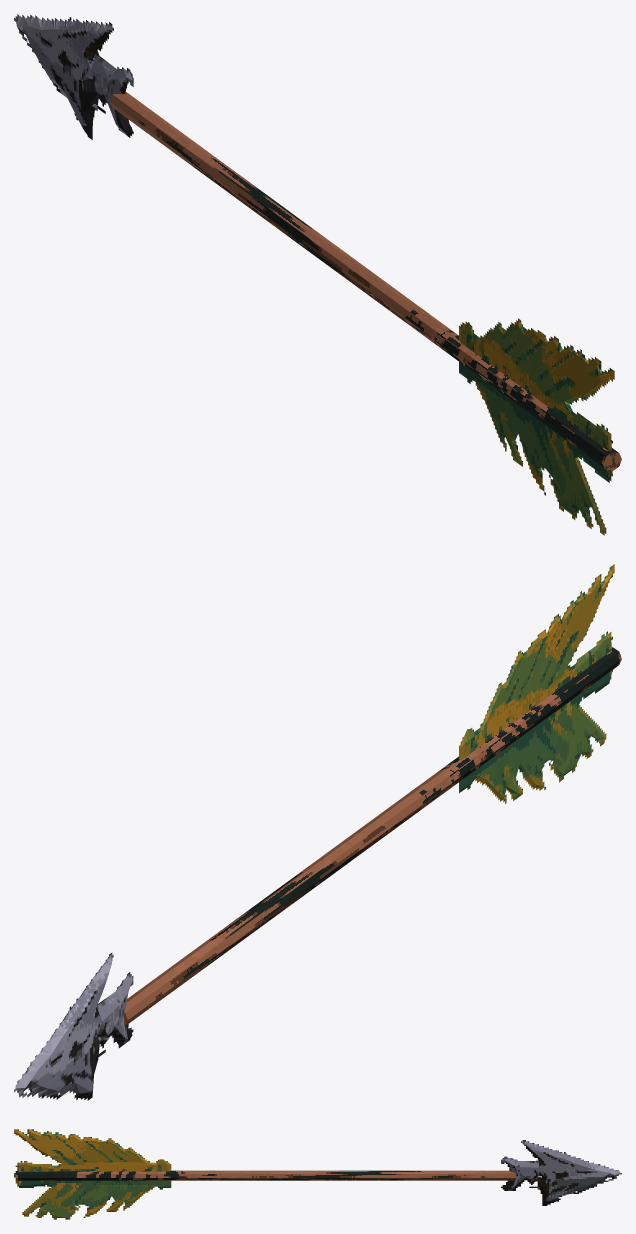
File: arrow.glb
3 renders of one model, top to bottom at view 1: azimuth 30°, elevation 25°; view 2: azimuth 150°, elevation 25°; view 3: azimuth 270°, elevation 25°, orthographic. The views are drawn at different scales.
Visible parts, largest first — view 1: fletching, shaft, head; view 2: fletching, shaft, head; view 3: fletching, shaft, head.
Boxes of the visible parts, left/top/right/bottom form: fletching: left=459, top=318, right=614, bottom=535; shaft: left=110, top=92, right=621, bottom=470; head: left=14, top=14, right=133, bottom=139; fletching: left=459, top=564, right=614, bottom=803; shaft: left=124, top=647, right=621, bottom=1026; head: left=14, top=953, right=133, bottom=1100; fletching: left=14, top=1129, right=171, bottom=1219; shaft: left=15, top=1170, right=515, bottom=1180; head: left=501, top=1140, right=621, bottom=1205.
Bounding box in the file's own units: 0.013 × 0.122 × 0.7459.
Materials: 2 (2 with a texture image).
